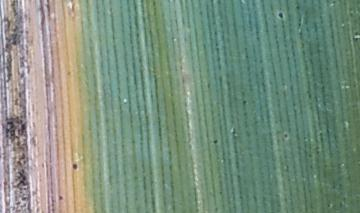tarspot: (276, 10, 285, 20), (282, 131, 290, 141), (211, 138, 220, 146), (294, 1, 300, 11), (241, 98, 248, 106), (56, 194, 64, 201), (71, 162, 78, 169), (326, 202, 332, 209)
